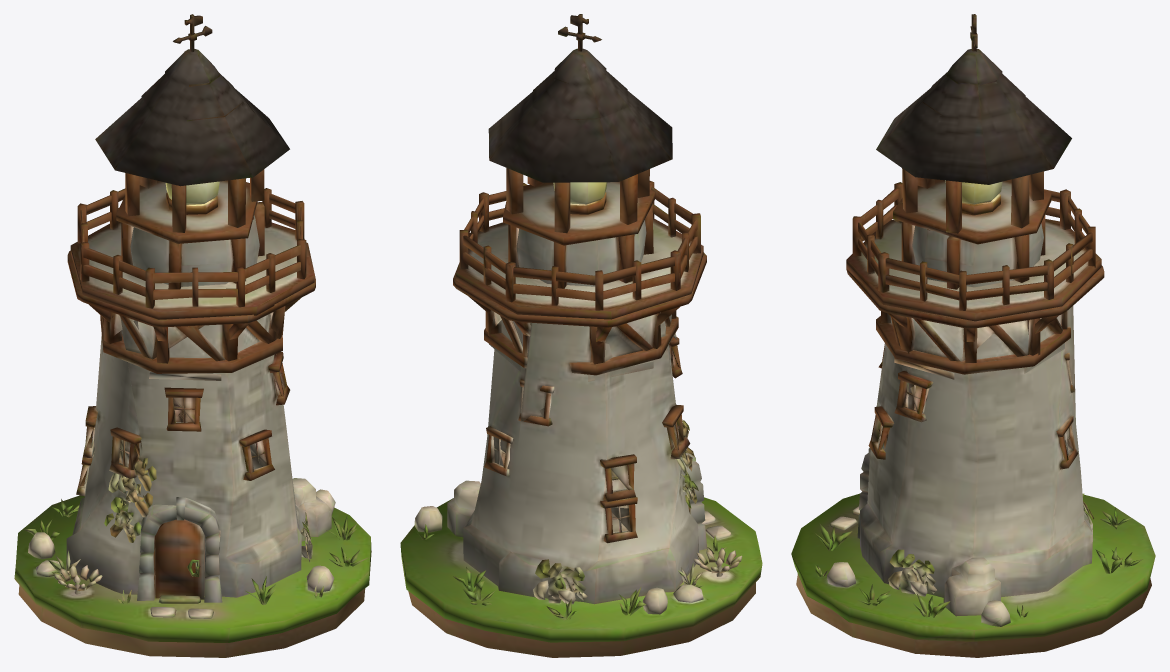
Rendered from lighthouse.glb.
3 views of the same model, side by side, from view 1: azimuth 30°, elevation 25°; view 2: azimuth 150°, elevation 25°; view 3: azimuth 270°, elevation 25° (orthographic).
Visible parts, largest first — view 1: prop; view 2: prop; view 3: prop.
Boxes of the visible parts, box(x1,y1,x2,y2) form: prop: box(14, 14, 371, 657); prop: box(400, 14, 762, 657); prop: box(791, 14, 1155, 657).
Bounding box in the file's own units: 0.5812 × 1 × 0.5812.
1 material, 1 textured.
